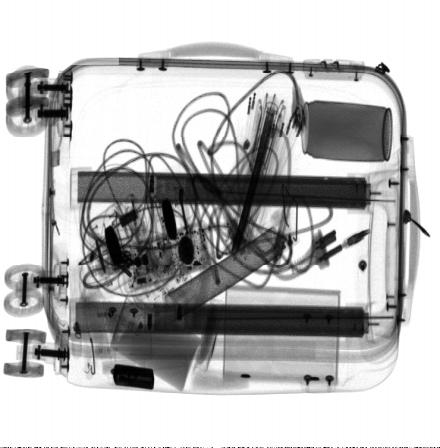Lighter: (113, 365, 154, 388)
